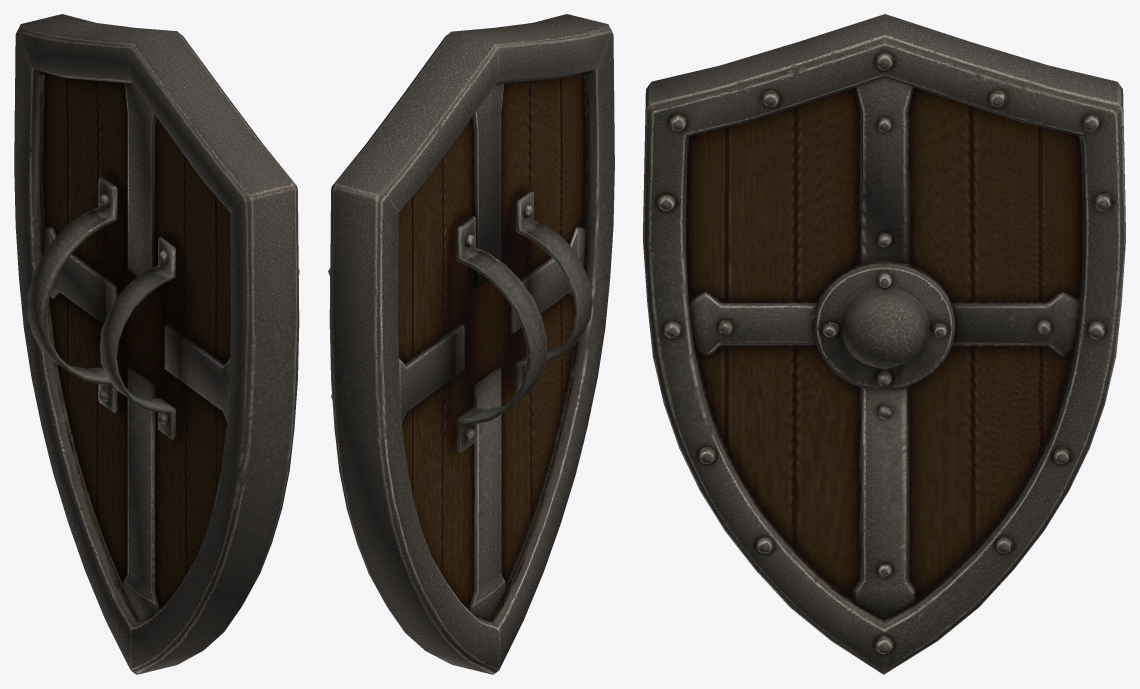
File: Shield.fbx
The picture shows the model from 3 angles, left to right: view 1: azimuth 30°, elevation 25°; view 2: azimuth 150°, elevation 25°; view 3: azimuth 270°, elevation 25°; orthographic projection.
Visible parts, largest first — view 1: Shield; view 2: Shield; view 3: Shield.
Boxes of the visible parts, x1,y1,x2,y2 form: Shield: [14, 14, 299, 674]; Shield: [328, 14, 614, 674]; Shield: [643, 14, 1125, 674].
Bounding box in the file's own units: 24.41 × 99.8 × 68.16.
